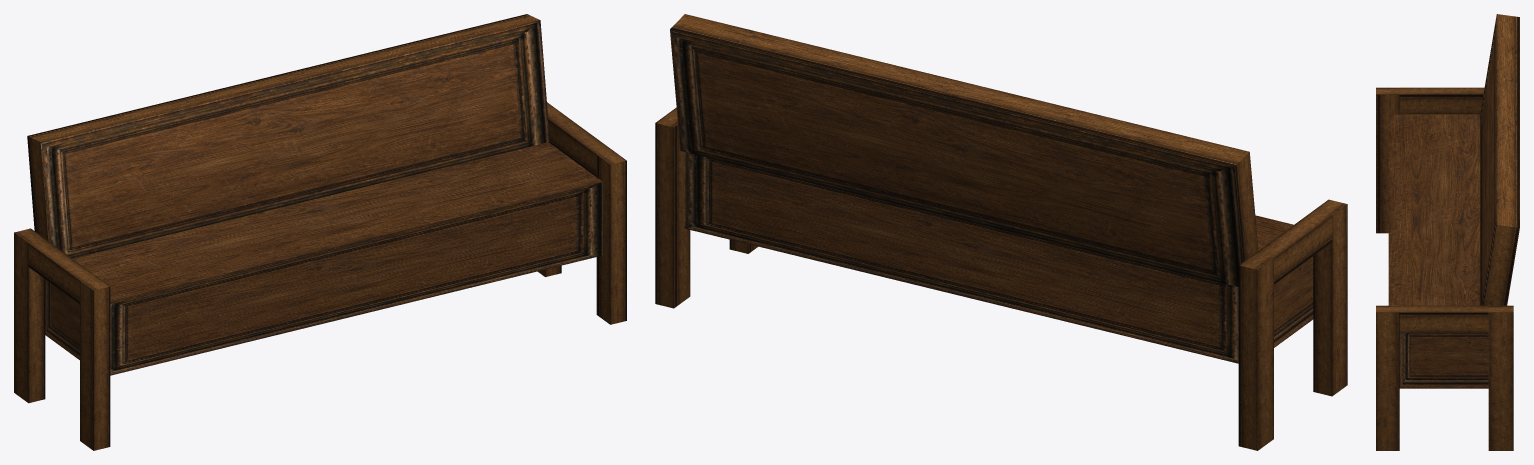
Rendered from mm9_deco_pew2ns.glb.
3 views of the same model, side by side, from view 1: azimuth 30°, elevation 25°; view 2: azimuth 150°, elevation 25°; view 3: azimuth 270°, elevation 25° (orthographic). The views are drawn at different scales.
Parts seen in each view (by area): view 1: Pew2ns; view 2: Pew2ns; view 3: Pew2ns.
Part boxes in pixels (x1,y1,x2,y2): Pew2ns: [14, 14, 626, 450]; Pew2ns: [655, 14, 1347, 450]; Pew2ns: [1376, 14, 1519, 450].
Bounding box in the file's own units: 3.01 × 1.37 × 0.8135.
2 materials, 2 textured.
